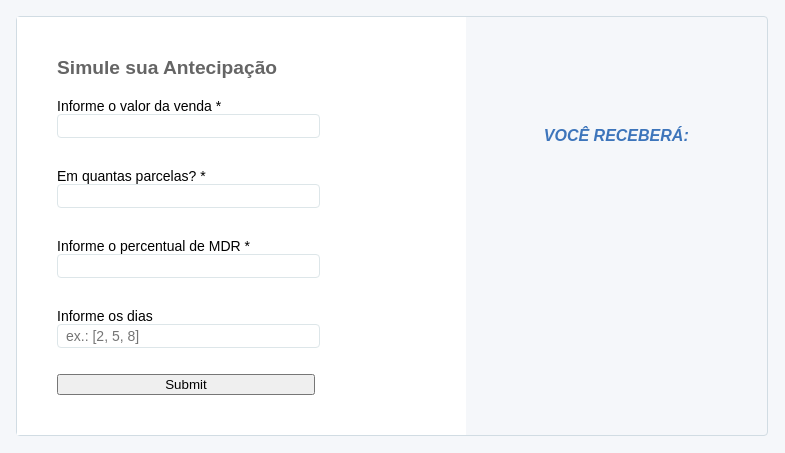
Test: Anticipation calculator › Teste de cálculo com valor de vendo menor que R$ 1000,00
The width and height of the screenshot is (785, 453).
Step 1. Type "10" into the field named "amount" → [189, 126], box [57, 114, 320, 138]
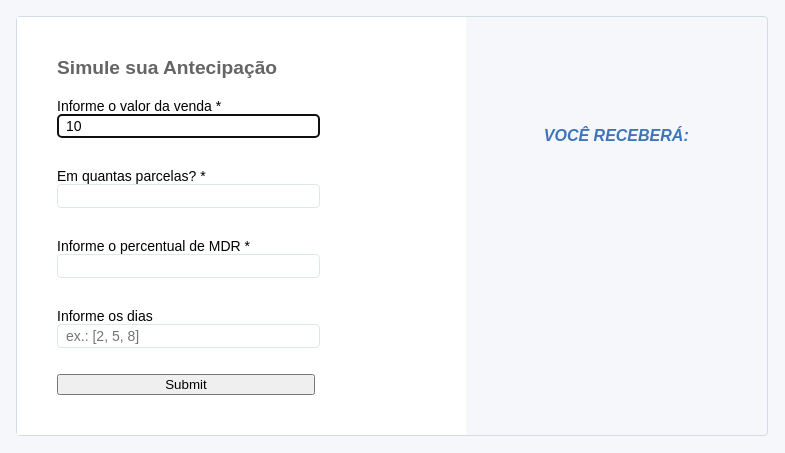
Step 2. Type "3" into the number field named "installments" below "Em quantas parcelas? *" → [189, 196], box [57, 184, 320, 208]
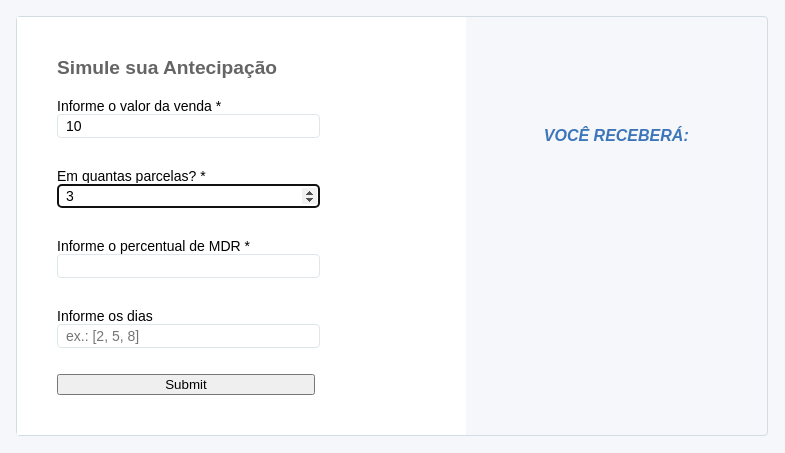
Step 3. Type "4" into the number field named "mdr" below "Informe o percentual de MDR *" → [189, 266], box [57, 254, 320, 278]
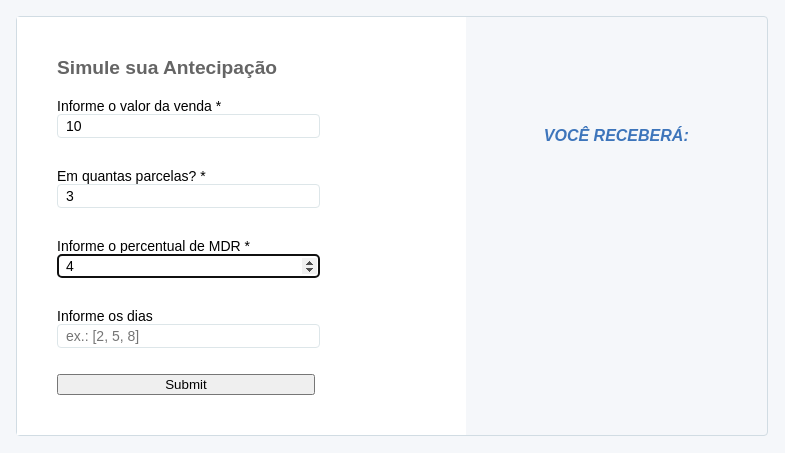
Step 4. Click the button with class "calcular" → [186, 385], box [57, 374, 315, 395]
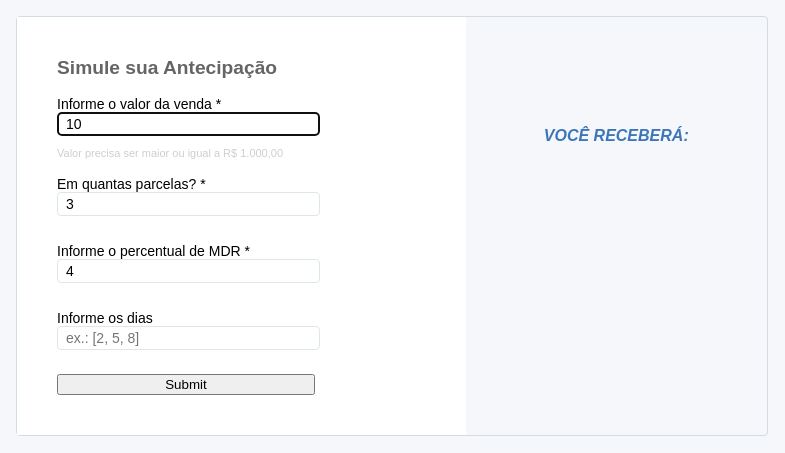
Now the text "Valor precisa ser maior ou igual a R$ 1.000,00" is shown, box [57, 147, 315, 160]
